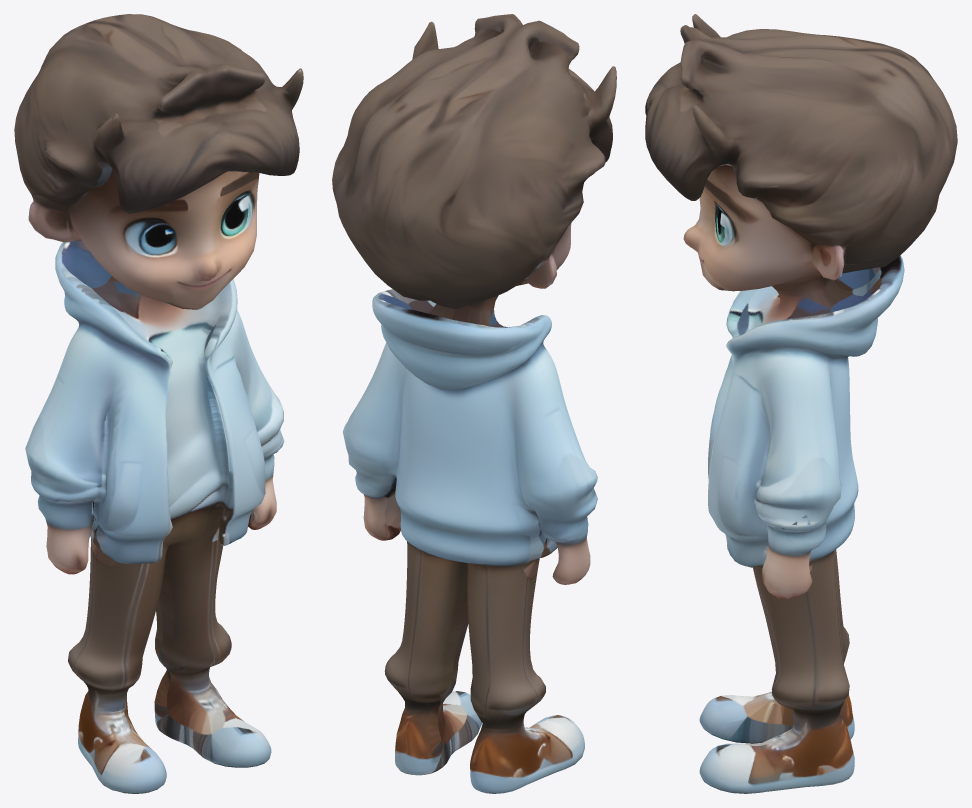
File: base_basic_shaded.glb
The picture shows the model from 3 angles, left to right: view 1: azimuth 30°, elevation 25°; view 2: azimuth 150°, elevation 25°; view 3: azimuth 270°, elevation 25°; orthographic projection.
Visible parts, largest first — view 1: model; view 2: model; view 3: model.
Boxes of the visible parts, x1,y1,x2,y2 form: model: (14,14,303,793); model: (332,14,616,793); model: (645,14,957,793).
Bounding box in the file's own units: 0.6624 × 1.86 × 0.7298.
Materials: 1 (1 with a texture image).
